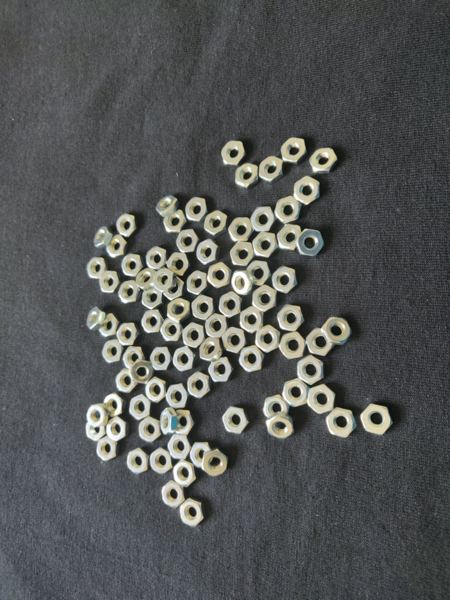nut: (360, 404, 394, 436), (297, 355, 330, 386), (326, 409, 358, 439), (199, 449, 231, 478), (308, 386, 337, 415), (322, 319, 354, 345), (278, 304, 307, 332), (275, 196, 302, 226), (227, 214, 254, 244), (168, 432, 195, 462), (297, 229, 325, 257), (280, 136, 308, 164), (238, 347, 267, 374), (163, 296, 192, 323), (221, 408, 251, 434), (295, 178, 323, 205), (253, 230, 280, 258), (306, 329, 335, 355), (284, 379, 310, 408), (273, 266, 299, 295), (149, 447, 175, 476), (122, 344, 148, 373), (267, 413, 297, 438), (309, 147, 339, 172), (229, 242, 256, 269), (220, 139, 248, 165), (180, 323, 208, 349), (195, 239, 223, 265), (172, 346, 197, 375), (126, 447, 150, 477), (256, 325, 280, 355), (103, 233, 130, 259), (259, 157, 284, 185), (208, 357, 233, 385), (207, 261, 232, 289), (149, 345, 174, 373), (140, 308, 165, 336), (219, 291, 243, 320), (231, 268, 255, 297), (278, 224, 304, 250), (197, 336, 223, 362), (130, 358, 156, 384), (161, 481, 186, 508), (281, 333, 306, 360), (168, 434, 193, 461), (170, 410, 197, 435), (191, 296, 216, 323), (262, 396, 290, 420), (235, 160, 259, 188), (252, 286, 280, 310), (160, 317, 183, 346), (221, 327, 246, 353), (240, 307, 265, 333), (180, 501, 204, 528), (173, 460, 197, 487), (185, 196, 209, 223), (247, 259, 271, 286), (190, 439, 214, 466), (114, 211, 138, 238), (252, 205, 275, 233), (185, 268, 208, 296), (101, 338, 124, 366), (97, 312, 120, 340), (204, 313, 229, 338), (137, 417, 162, 442), (127, 395, 151, 421), (114, 370, 138, 396), (162, 209, 186, 235), (117, 278, 140, 305), (145, 377, 167, 405), (95, 438, 120, 462), (149, 345, 173, 370), (187, 373, 210, 399), (166, 383, 189, 409), (106, 418, 129, 444), (138, 286, 164, 309), (145, 246, 168, 272), (161, 405, 180, 436), (117, 320, 138, 348), (153, 267, 176, 292), (163, 277, 186, 302), (86, 403, 108, 429), (177, 227, 199, 253), (84, 417, 106, 442), (103, 393, 125, 418), (85, 307, 107, 332), (99, 268, 120, 294), (122, 251, 143, 277), (90, 224, 112, 248), (155, 194, 179, 216), (86, 257, 107, 281)
